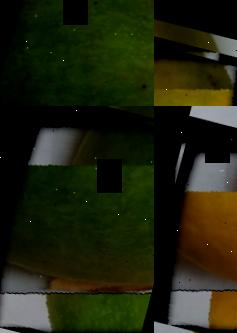PartiallyRipe: (154, 22, 237, 106)
Ripe: (154, 120, 237, 333)
Unripe: (0, 106, 154, 333), (0, 0, 154, 106)
